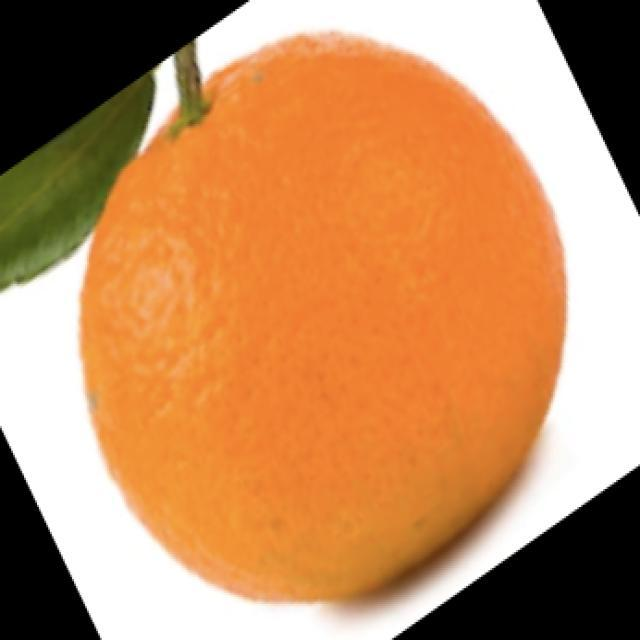Orange: (77, 29, 568, 604)
